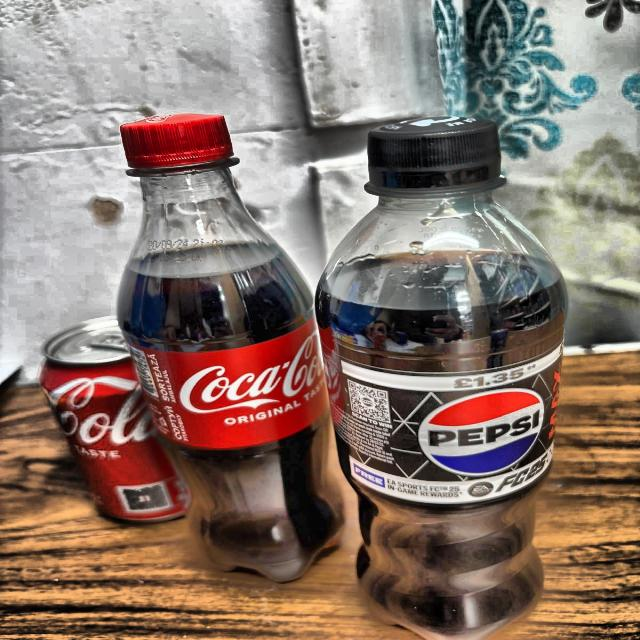coke-bottle: (109, 108, 352, 592)
coke-can: (51, 322, 189, 530)
pepsi-bottle: (328, 104, 555, 640)
